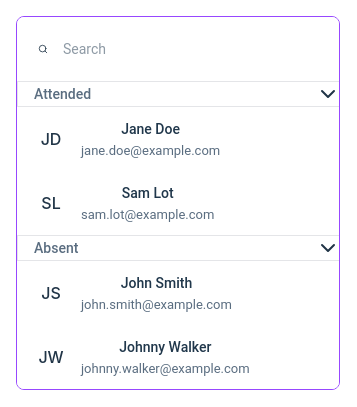
Test: SearchableList › can collapse both sections
The image size is (357, 407).
Expected: the text "Jane Doe" is shown, x1=121 y1=121 x2=180 y2=137
Expected: the text "Sam Lot" is shown, x1=122 y1=185 x2=174 y2=201
Collapse the "Attended" section
Click the text "Attended".
click(63, 94)  # box x1=34 y1=84 x2=91 y2=104
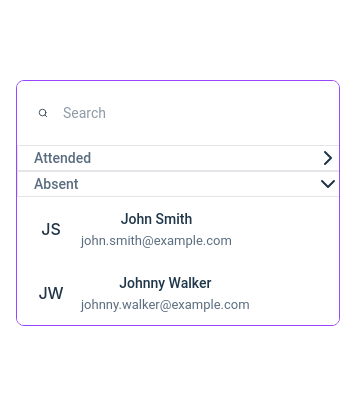
Now the text "Jane Doe" is gone
Now the text "Sam Lot" is gone
Collapse the "Absent" section
Click the text "Absent".
click(56, 184)  # box x1=34 y1=174 x2=78 y2=194
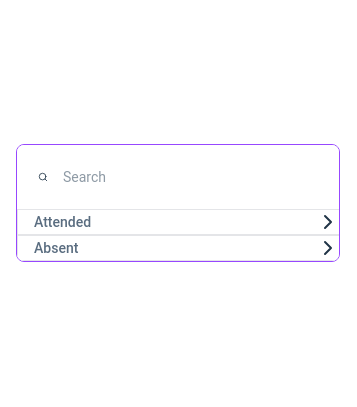
Now the text "John Smith" is gone
Now the text "Johnny Walker" is gone
